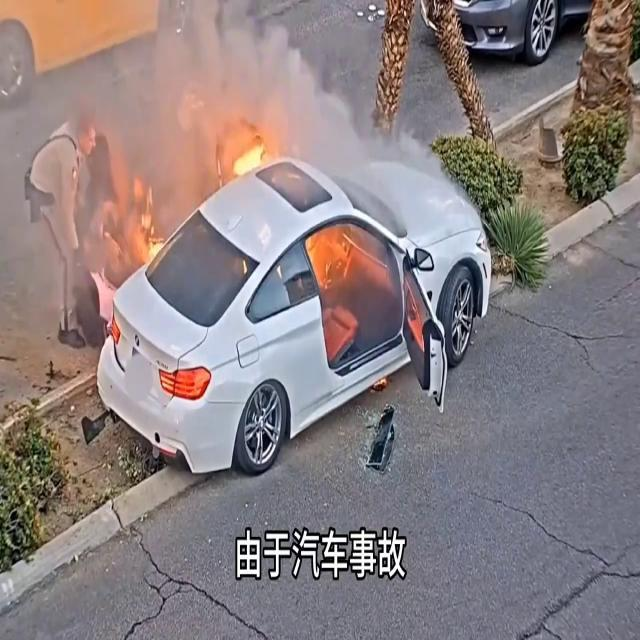Fire: (221, 120, 284, 186)
